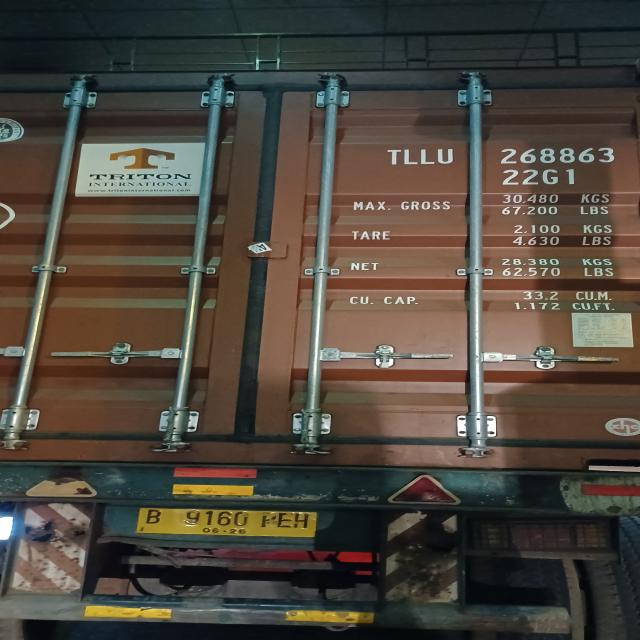seal: (377, 350, 392, 370)
